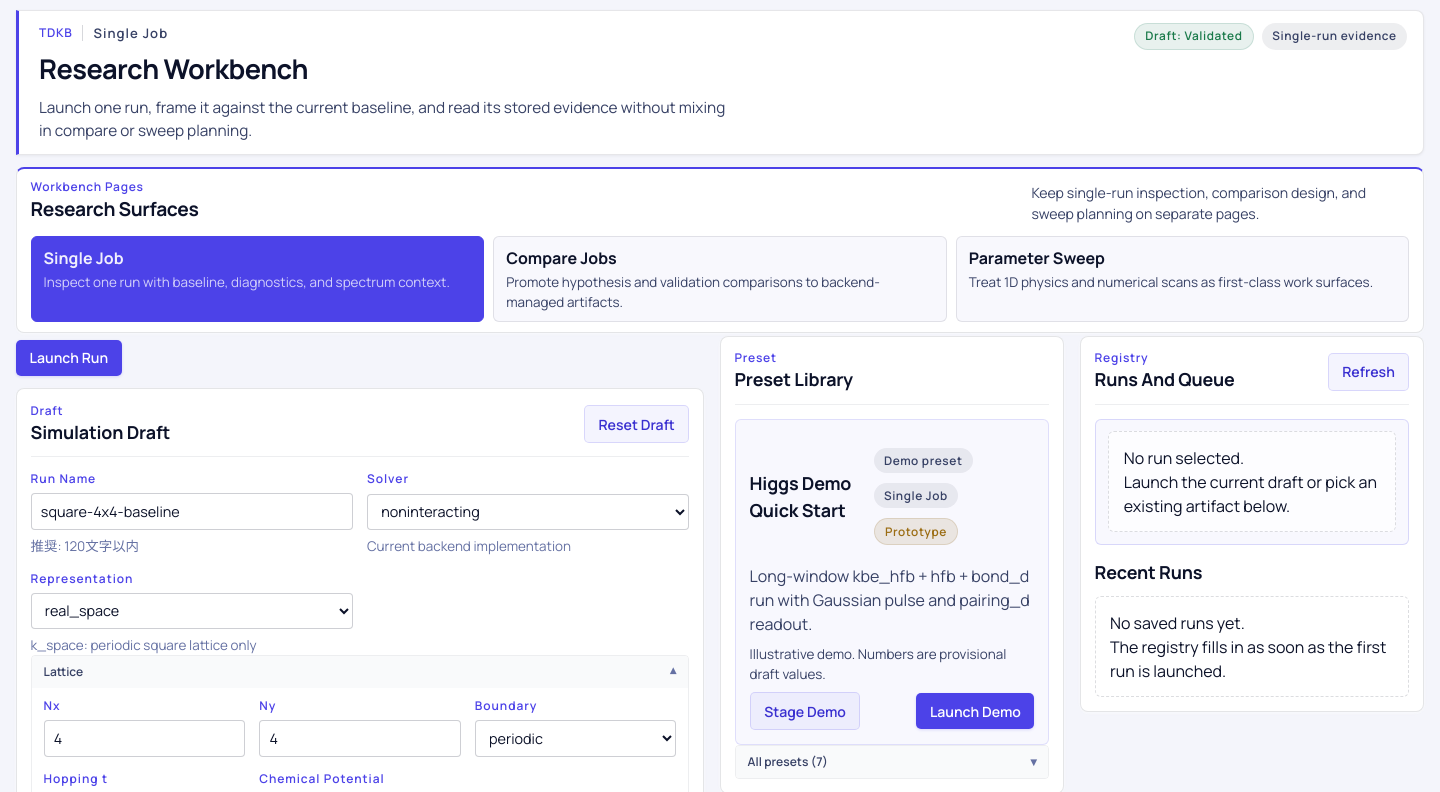
Test: App › switches to compare planning mode
The width and height of the screenshot is (1440, 792).
Expected: the heading "Research Surfaces" is shown, [31,195,198,224]
Step 1. Click the button "Compare Jobs" → (720, 279), box [493,236,947,322]
(page scrolled)
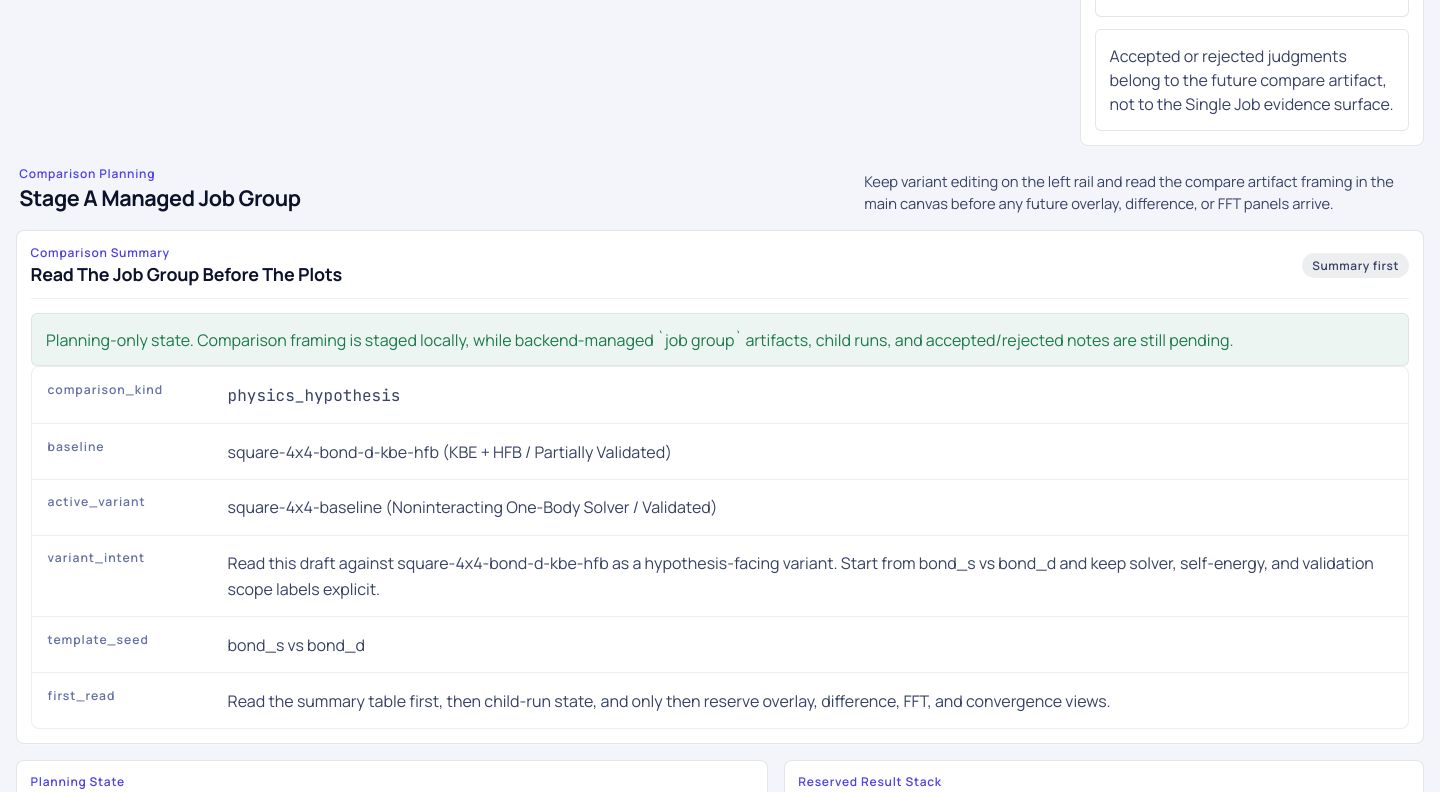
Expected: the heading "Read The Job Group Before The Plots" is shown, [31,260,342,287]
Expected: the column heading "comparison_kind" is shown, [32,367,212,424]
Expected: the heading "Runs And Queue" is gone
